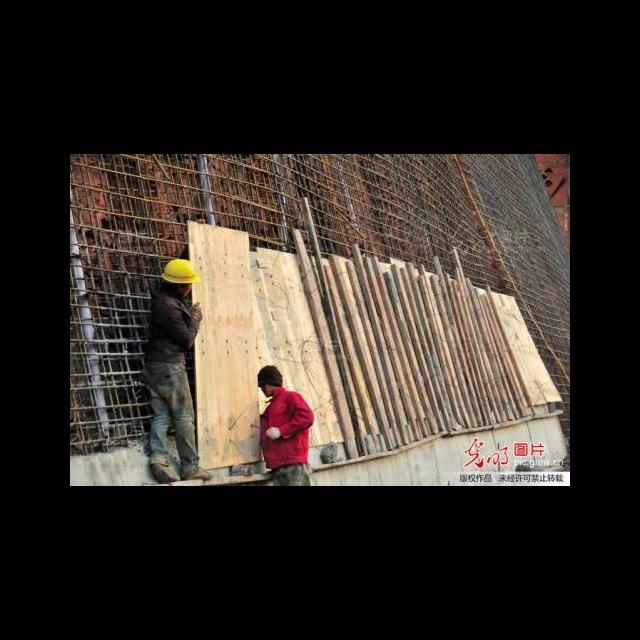Gloves: (187, 302, 204, 322), (264, 428, 280, 439)
Hardhat: (162, 257, 198, 284)
NO-Hardhat: (256, 364, 282, 389)
NO-Mask: (263, 387, 277, 398), (175, 285, 189, 296)
NO-Safety Vest: (263, 394, 310, 465), (148, 290, 189, 364)
Person: (141, 254, 214, 481), (255, 363, 314, 486)
